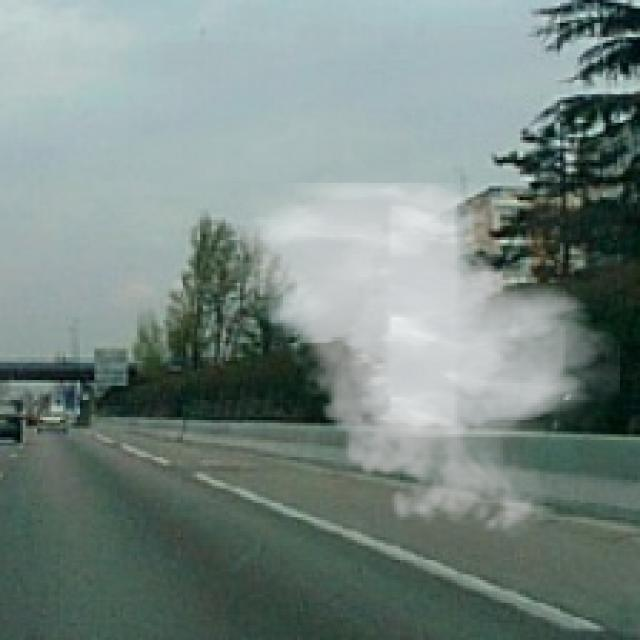Smoke: (225, 183, 620, 543)
